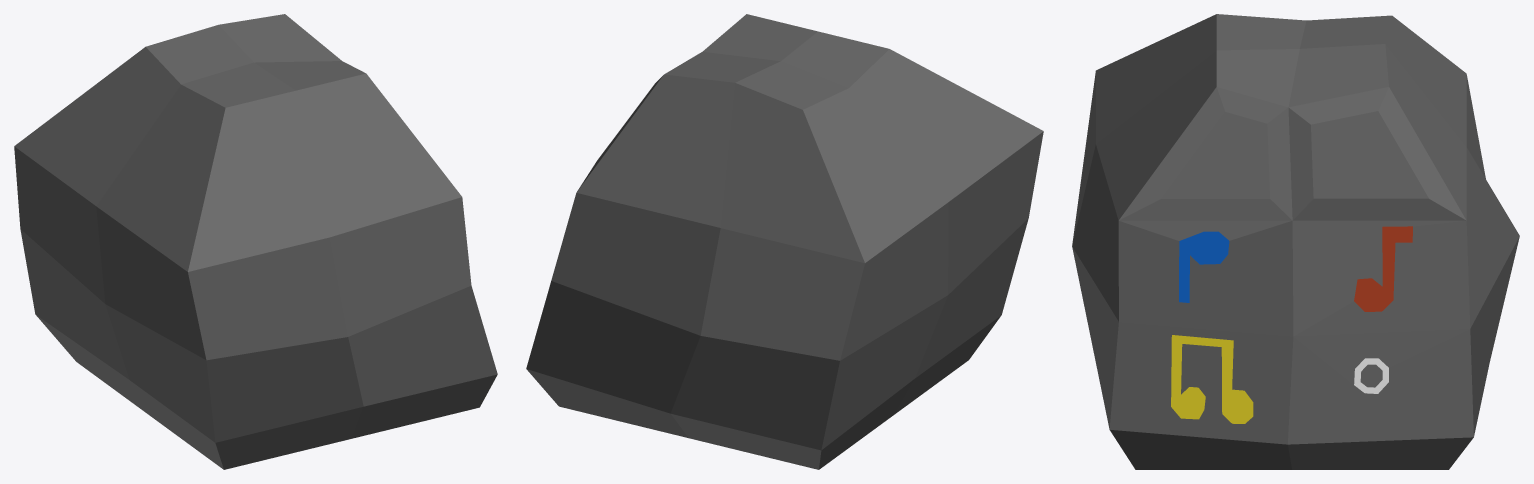
The model's file is RocaM.fbx.
3 renders of one model, left to right at view 1: azimuth 30°, elevation 25°; view 2: azimuth 150°, elevation 25°; view 3: azimuth 270°, elevation 25°, orthographic. The views are drawn at different scales.
Visible parts, largest first — view 1: Cube; view 2: Cube; view 3: Cube.
Boxes of the visible parts, x1,y1,x2,y2 form: Cube: (14, 14, 497, 469); Cube: (526, 14, 1043, 469); Cube: (1072, 14, 1519, 469).
Bounding box in the file's own units: 233 × 214 × 246.
Materials: 1 (1 with a texture image).
